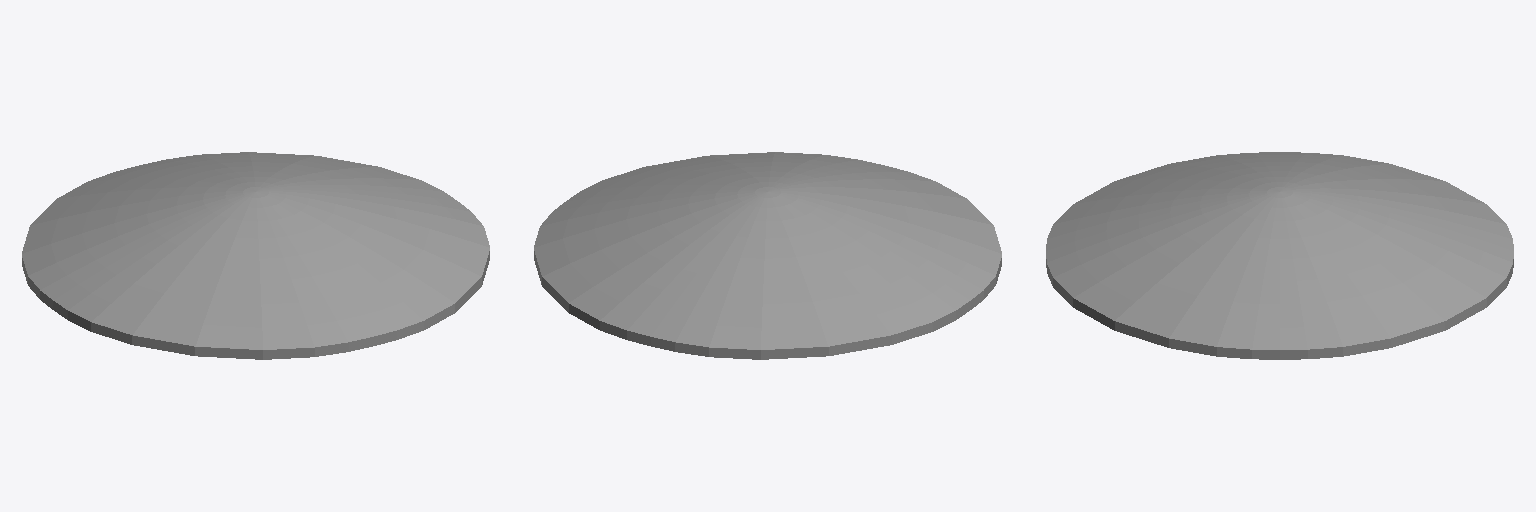
Rendered from ufo3.obj.
3 views of the same model, side by side, from view 1: azimuth 30°, elevation 25°; view 2: azimuth 150°, elevation 25°; view 3: azimuth 270°, elevation 25° (orthographic).
Parts seen in each view (by area): view 1: ufo3_CUSurfSphere; view 2: ufo3_CUSurfSphere; view 3: ufo3_CUSurfSphere.
Part boxes in pixels (x1,y1,x2,y2): ufo3_CUSurfSphere: (22,152,489,359); ufo3_CUSurfSphere: (534,152,1001,359); ufo3_CUSurfSphere: (1046,152,1513,359).
Bounding box in the file's own units: 7.54 × 2.29 × 7.54.